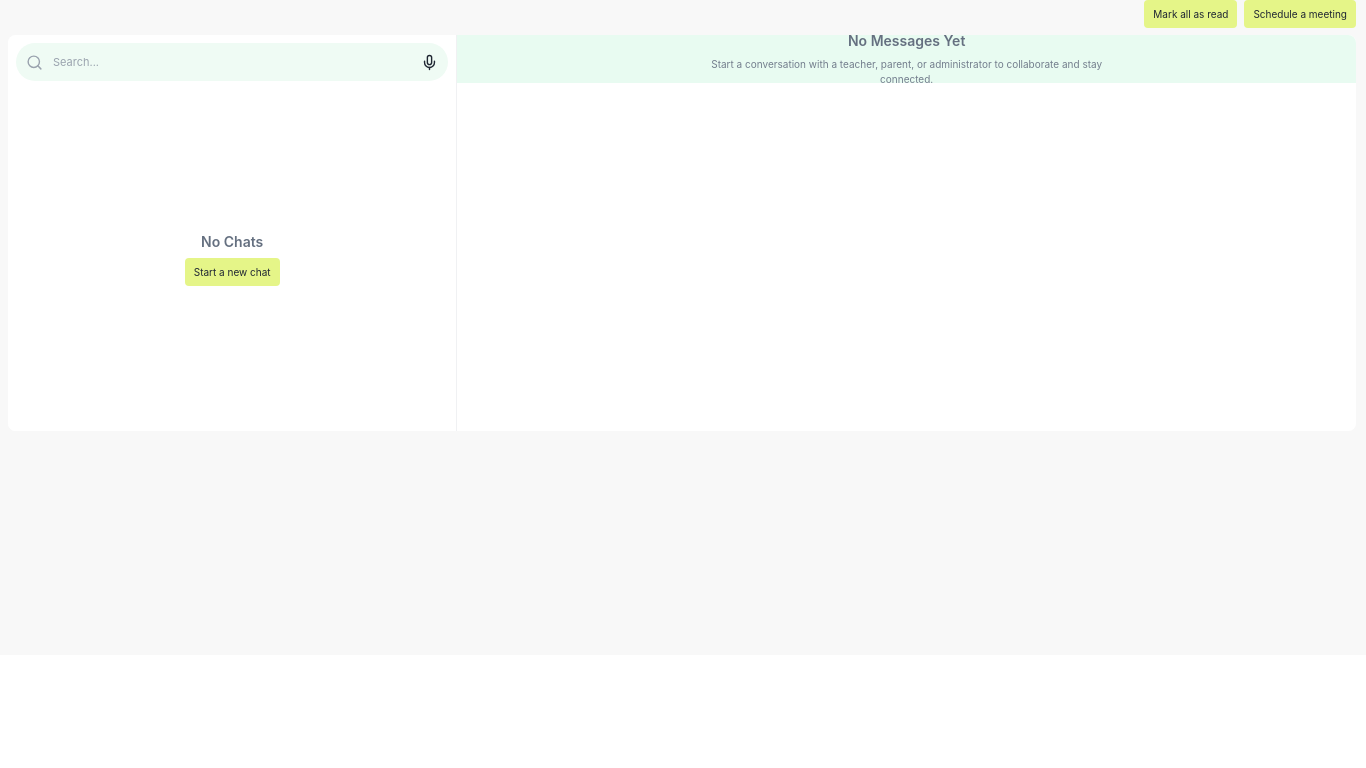
Test: SETU shows the empty chat-list state and lets the teacher start a chat
This screenshot has width=1366, height=768.
Check: the heading "No Chats" is shown, box [201,232,263,250]
Check: the heading "No Messages Yet" is shown, box [848,35,965,49]
Step 1. Click the button "Start a new chat" → (232, 272), box [185,258,280,286]
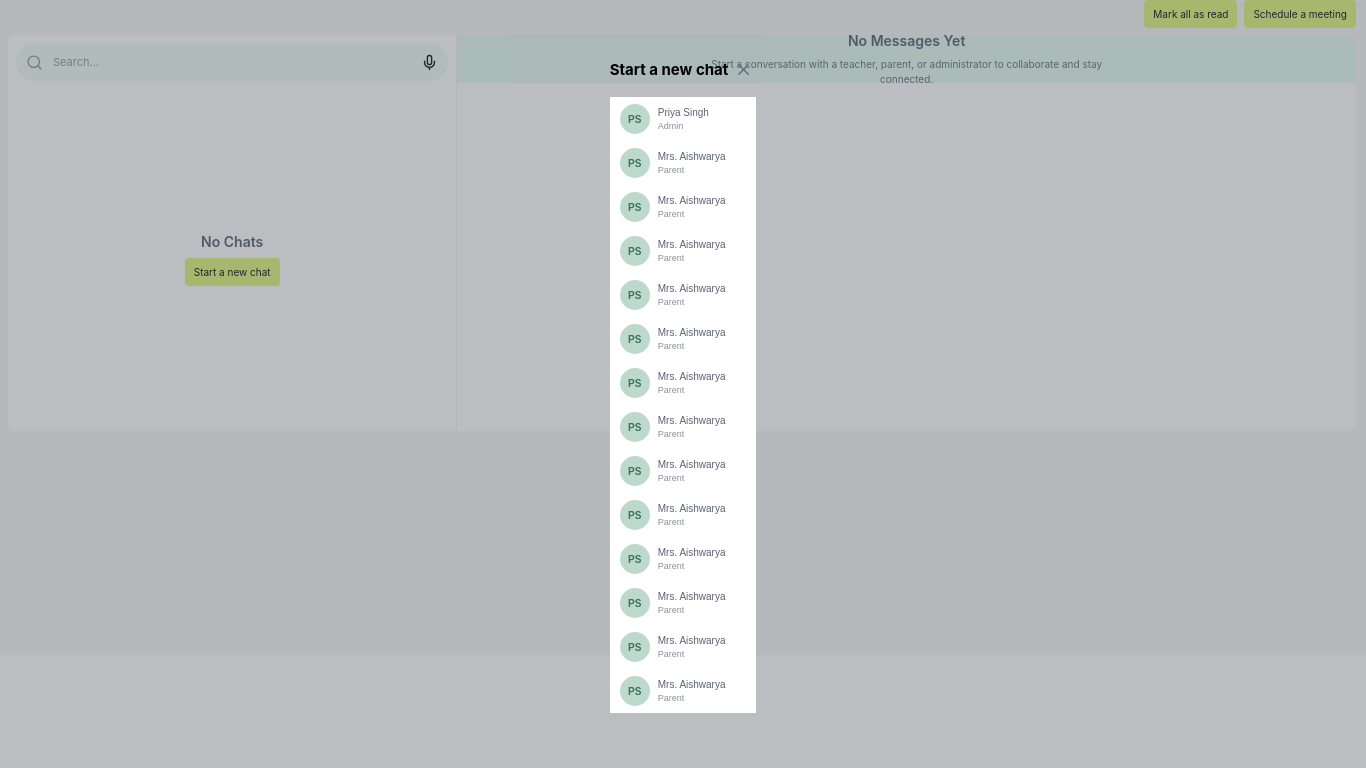
Step 2. Click the 1st button "PS Mrs. Aishwarya Parent" → (683, 163), box [610,141,756,185]
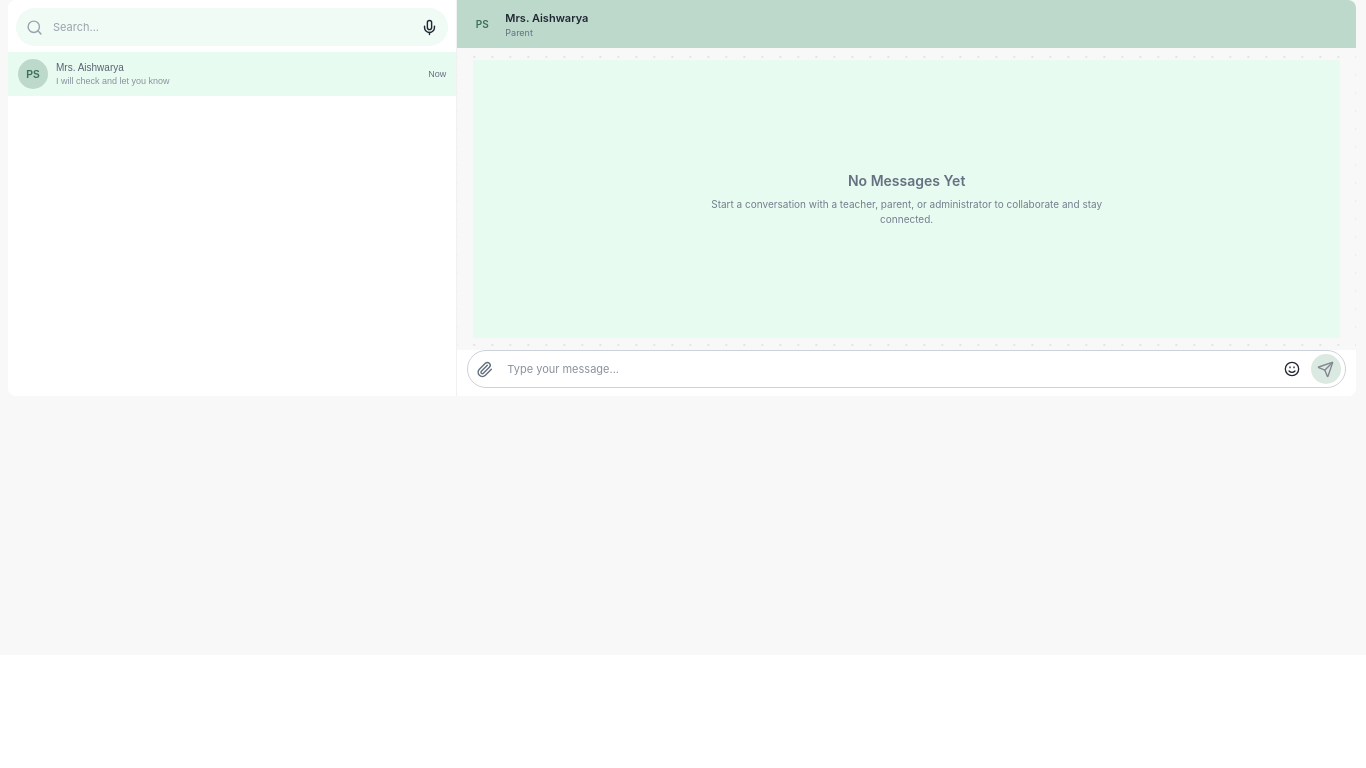
Check: the 1st text "Mrs. Aishwarya" is shown, box [505,10,588,24]
Check: the button "PS Mrs. Aishwarya I will check and let you know Now" is shown, box [8,52,456,96]
